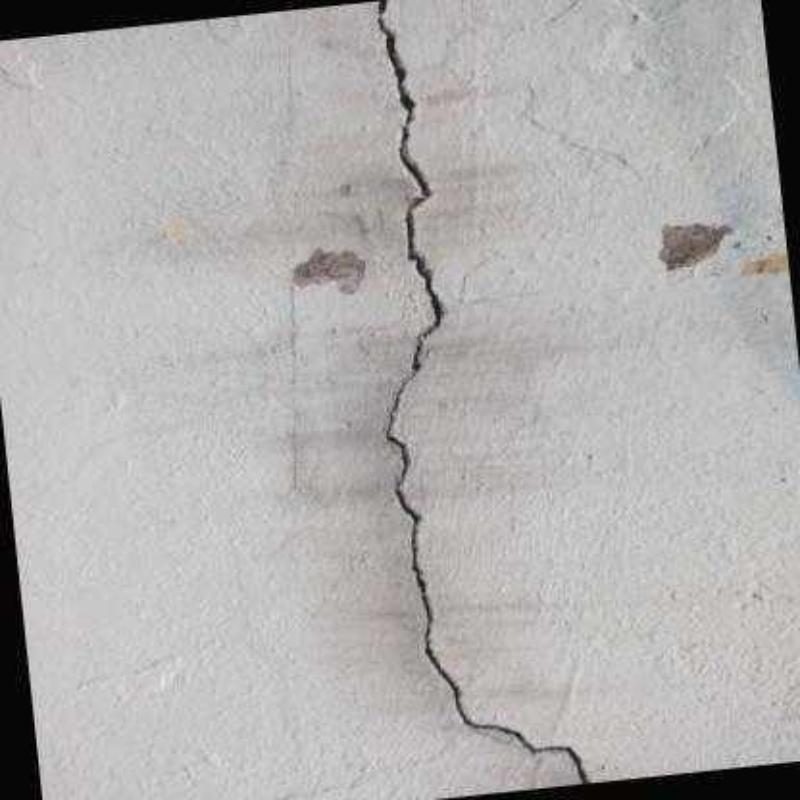crack: (374, 0, 586, 784), (380, 421, 585, 784)
